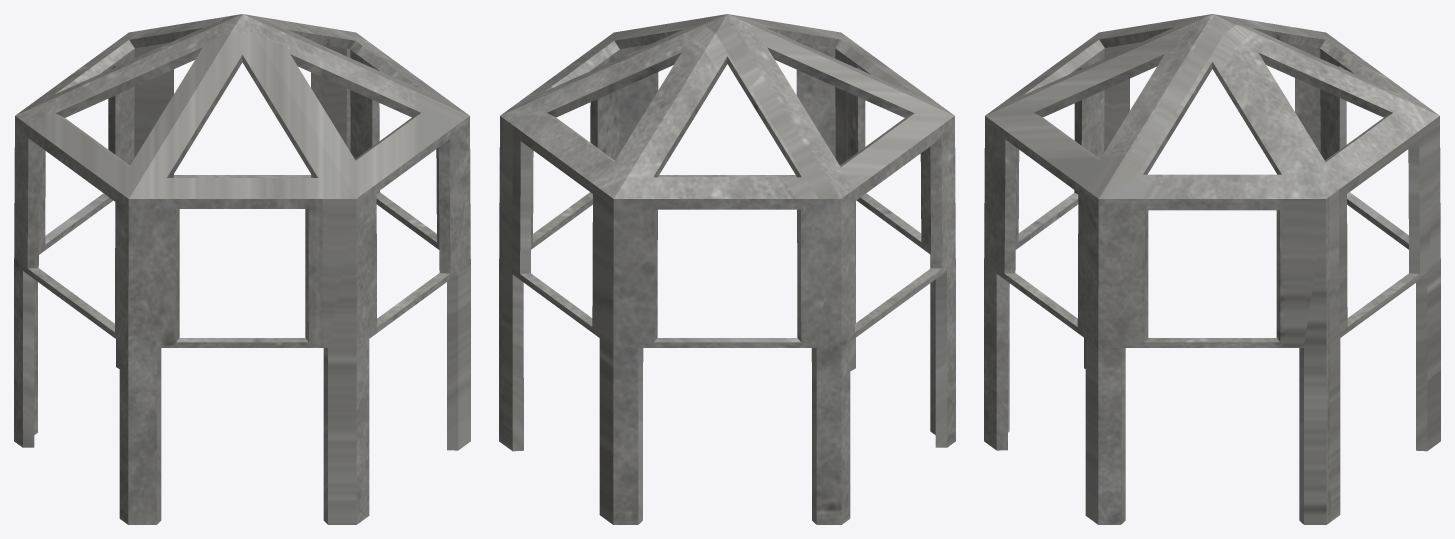
Rendered from Inner CeilingandColumns.fbx.
3 views of the same model, side by side, from view 1: azimuth 30°, elevation 25°; view 2: azimuth 150°, elevation 25°; view 3: azimuth 270°, elevation 25° (orthographic).
Parts seen in each view (by area): view 1: Inner_CeilingandColumns; view 2: Inner_CeilingandColumns; view 3: Inner_CeilingandColumns.
Part boxes in pixels (bbox=[...]): Inner_CeilingandColumns: bbox=[14, 14, 470, 524]; Inner_CeilingandColumns: bbox=[499, 14, 955, 524]; Inner_CeilingandColumns: bbox=[984, 14, 1440, 524].
Bounding box in the file's own units: 1799 × 2145 × 2077.
